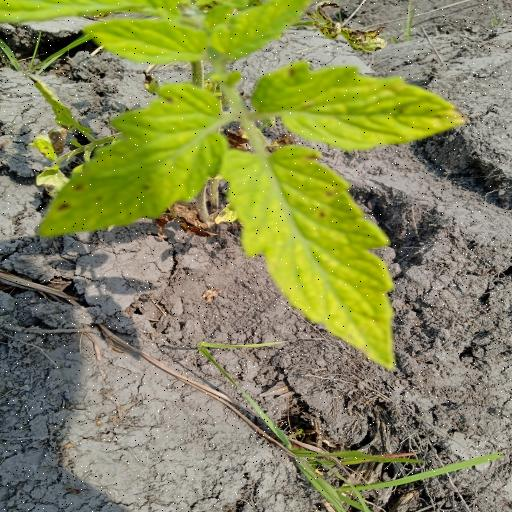Tomato_Brown_Spots: (220, 143, 412, 377), (33, 78, 231, 244), (247, 57, 475, 153)
